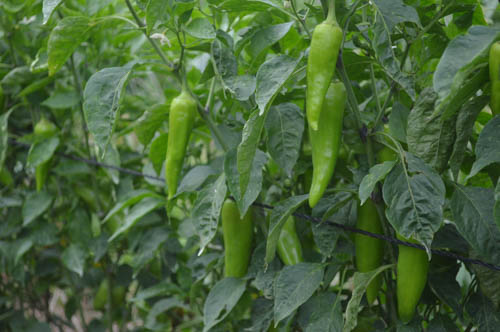ChiliPepper: (308, 83, 350, 211), (305, 27, 339, 132), (394, 221, 427, 317), (355, 196, 384, 301), (167, 96, 195, 202), (221, 196, 252, 280), (269, 207, 304, 268)
